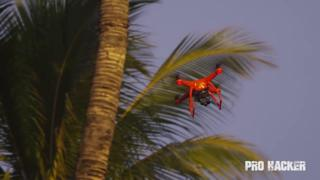UAV: (174, 61, 224, 118)
